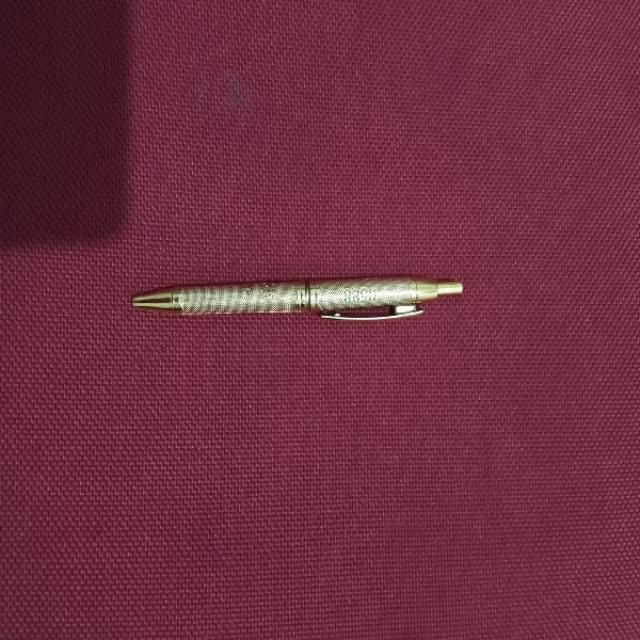signature pen: (133, 277, 461, 319)
